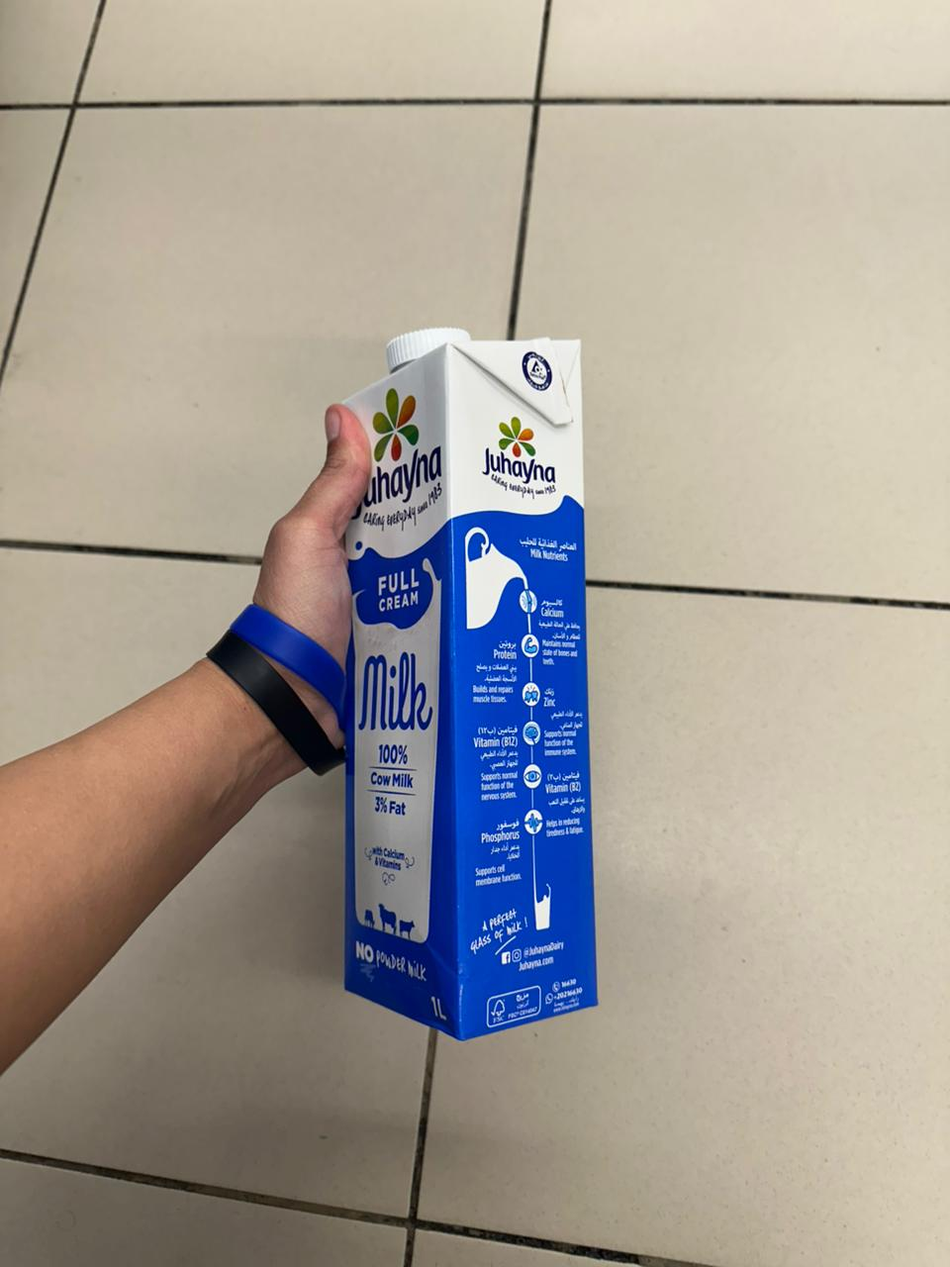milk: (345, 332, 596, 1037)
